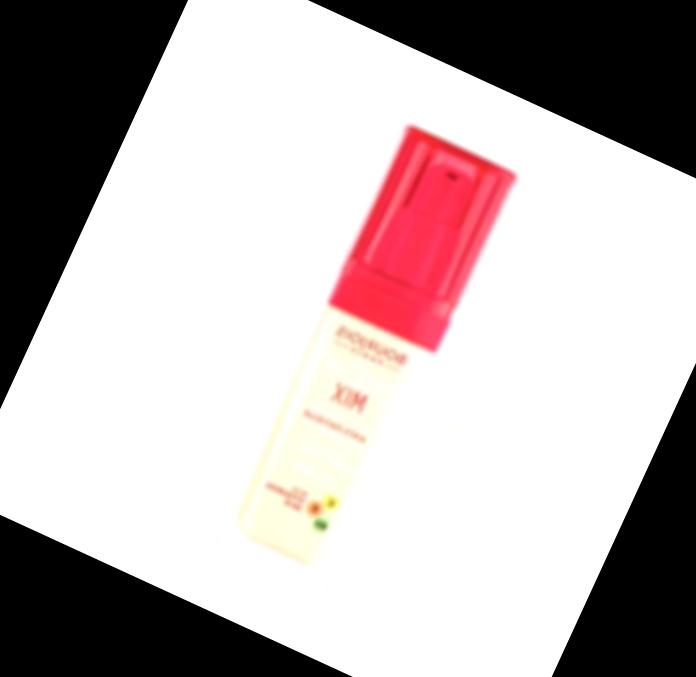cosmetic: (203, 121, 523, 608)
